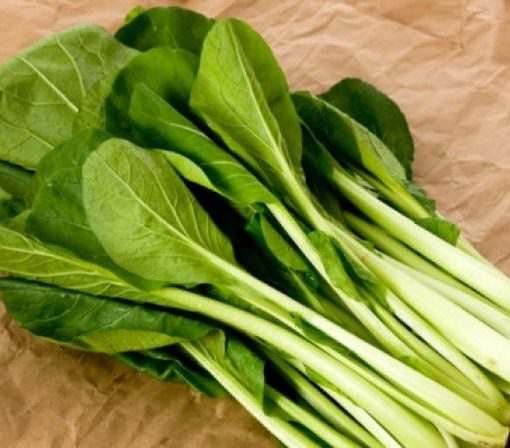Sawi: (52, 61, 500, 444)
